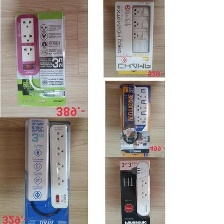book: (13, 9, 67, 108), (23, 117, 73, 223), (112, 0, 155, 75), (117, 82, 152, 157), (118, 159, 153, 223)
three_eye_plug: (46, 122, 70, 210), (14, 12, 42, 77), (128, 3, 151, 56), (134, 160, 152, 218), (133, 84, 149, 134)
